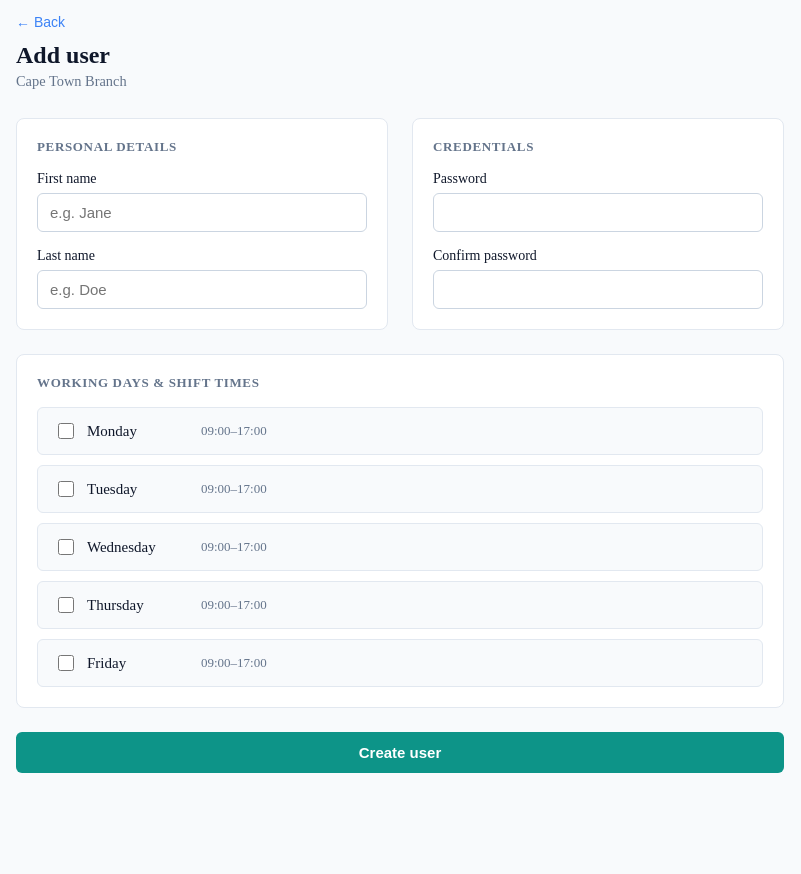
Test: AddUserView › shows last-name-error and blocks submit when lastName contains digits
The image size is (801, 874).
Step 1. Type "Jane" into the field with test id "first-name-input" → (202, 212), box [37,193,367,232]
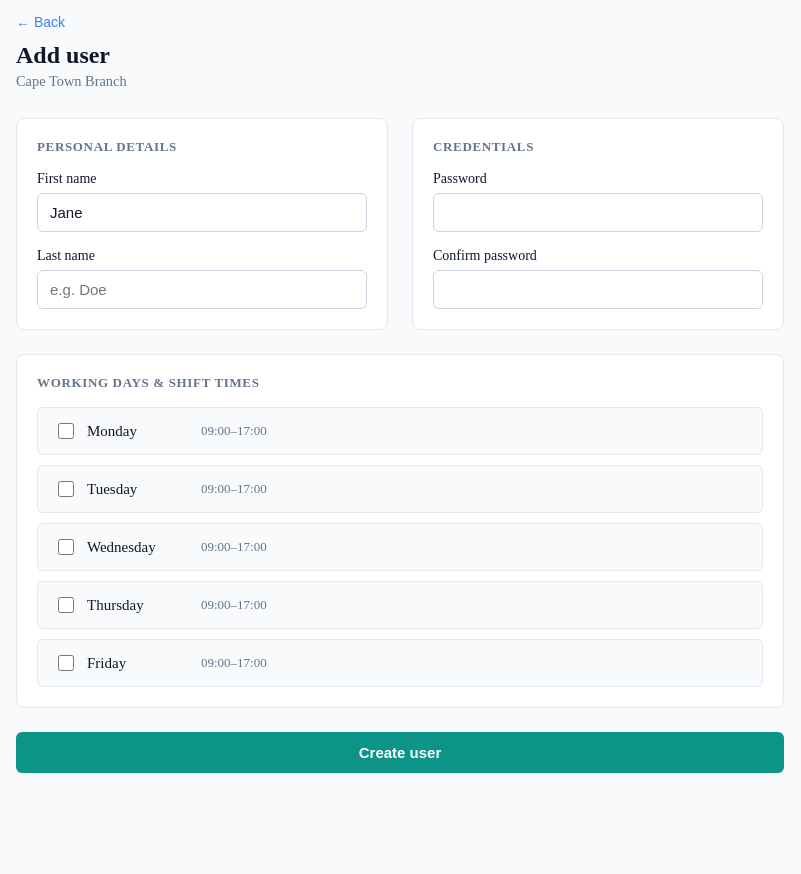
Step 2. Type "Doe3" into the field with test id "last-name-input" → (202, 290), box [37,270,367,309]
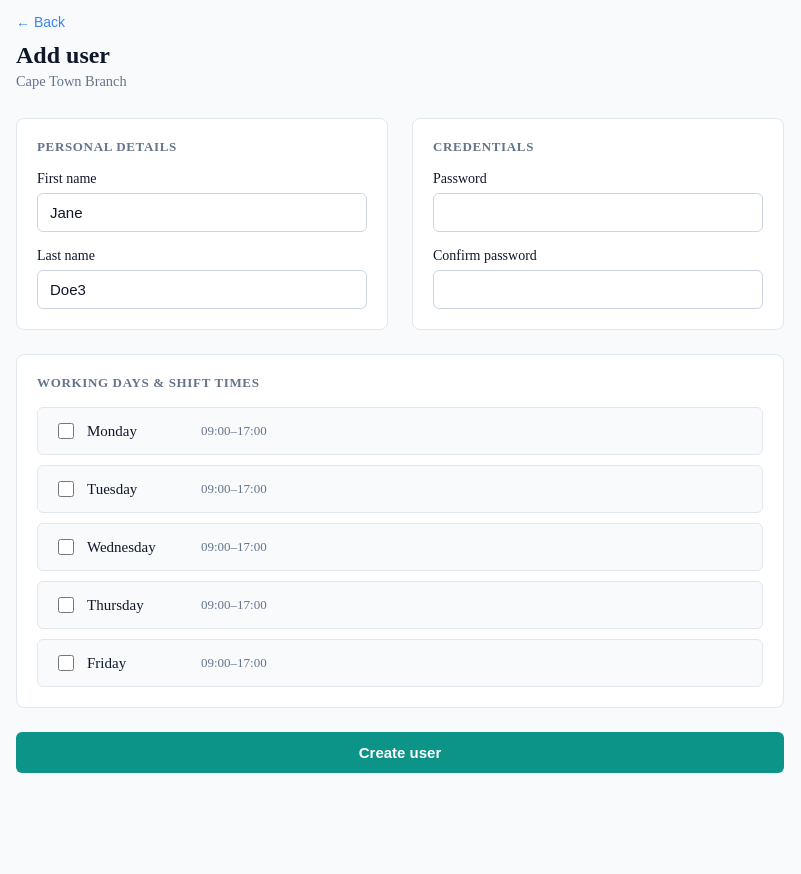
Step 3. Type "secret99" into the password field with test id "password-input" → (598, 212), box [433,193,763,232]
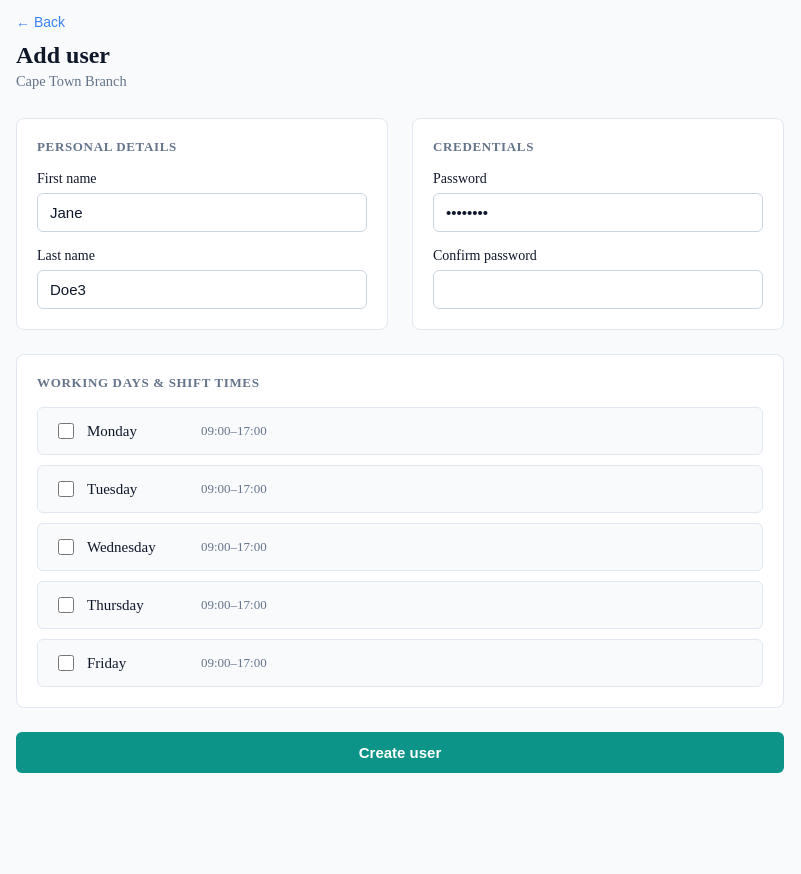
Step 4. Type "secret99" into the password field with test id "confirm-password-input" → (598, 290), box [433,270,763,309]
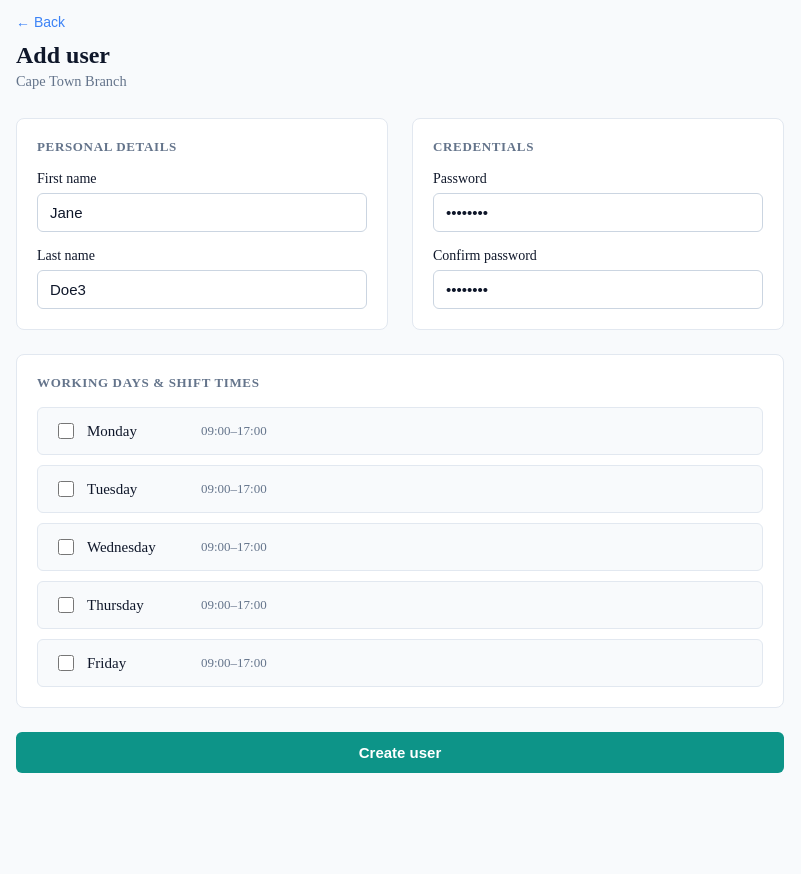
Step 5. Click the checkbox with test id "work-day-monday" → (66, 431), box [58,423,74,439]
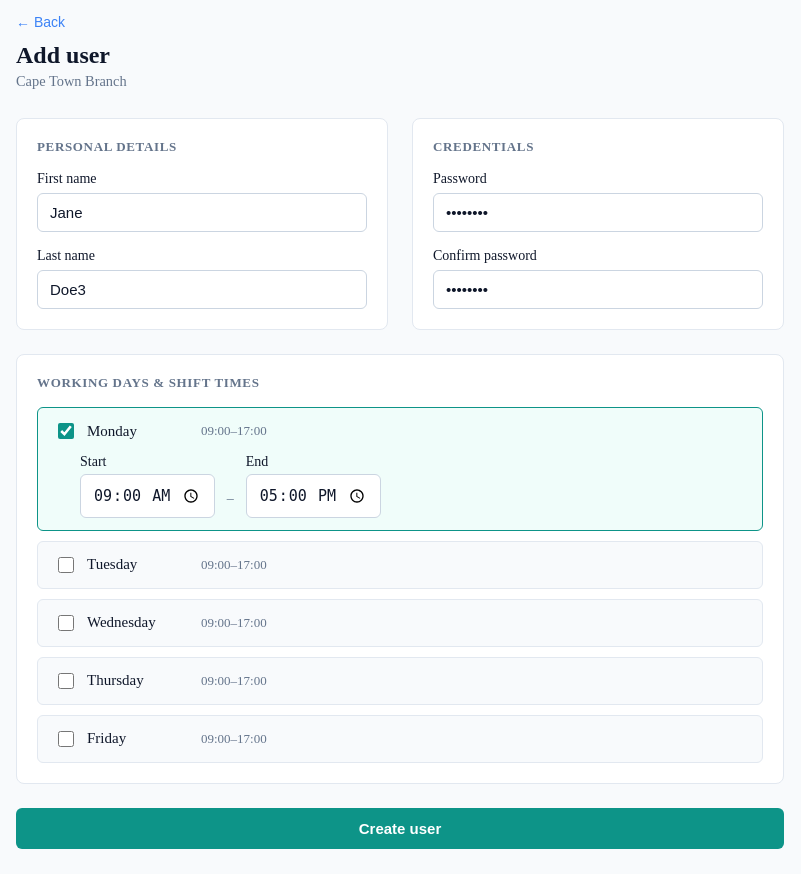
Step 6. Submit the form with test id "add-user-form"
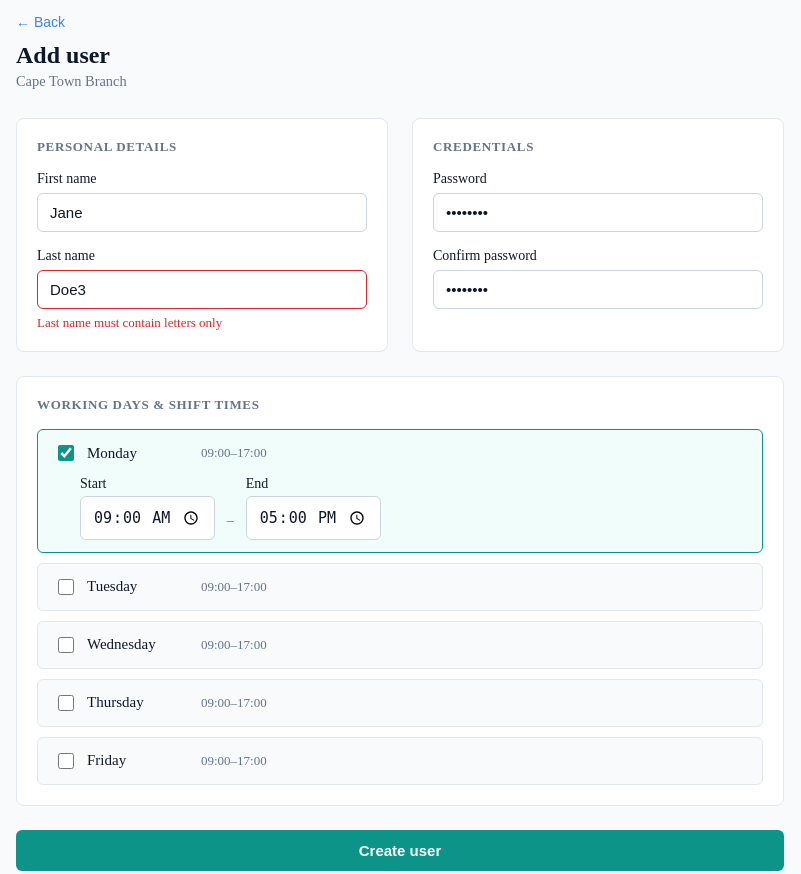
Expected: the text "Last name must contain letters only" is shown, [37,315,222,330]
